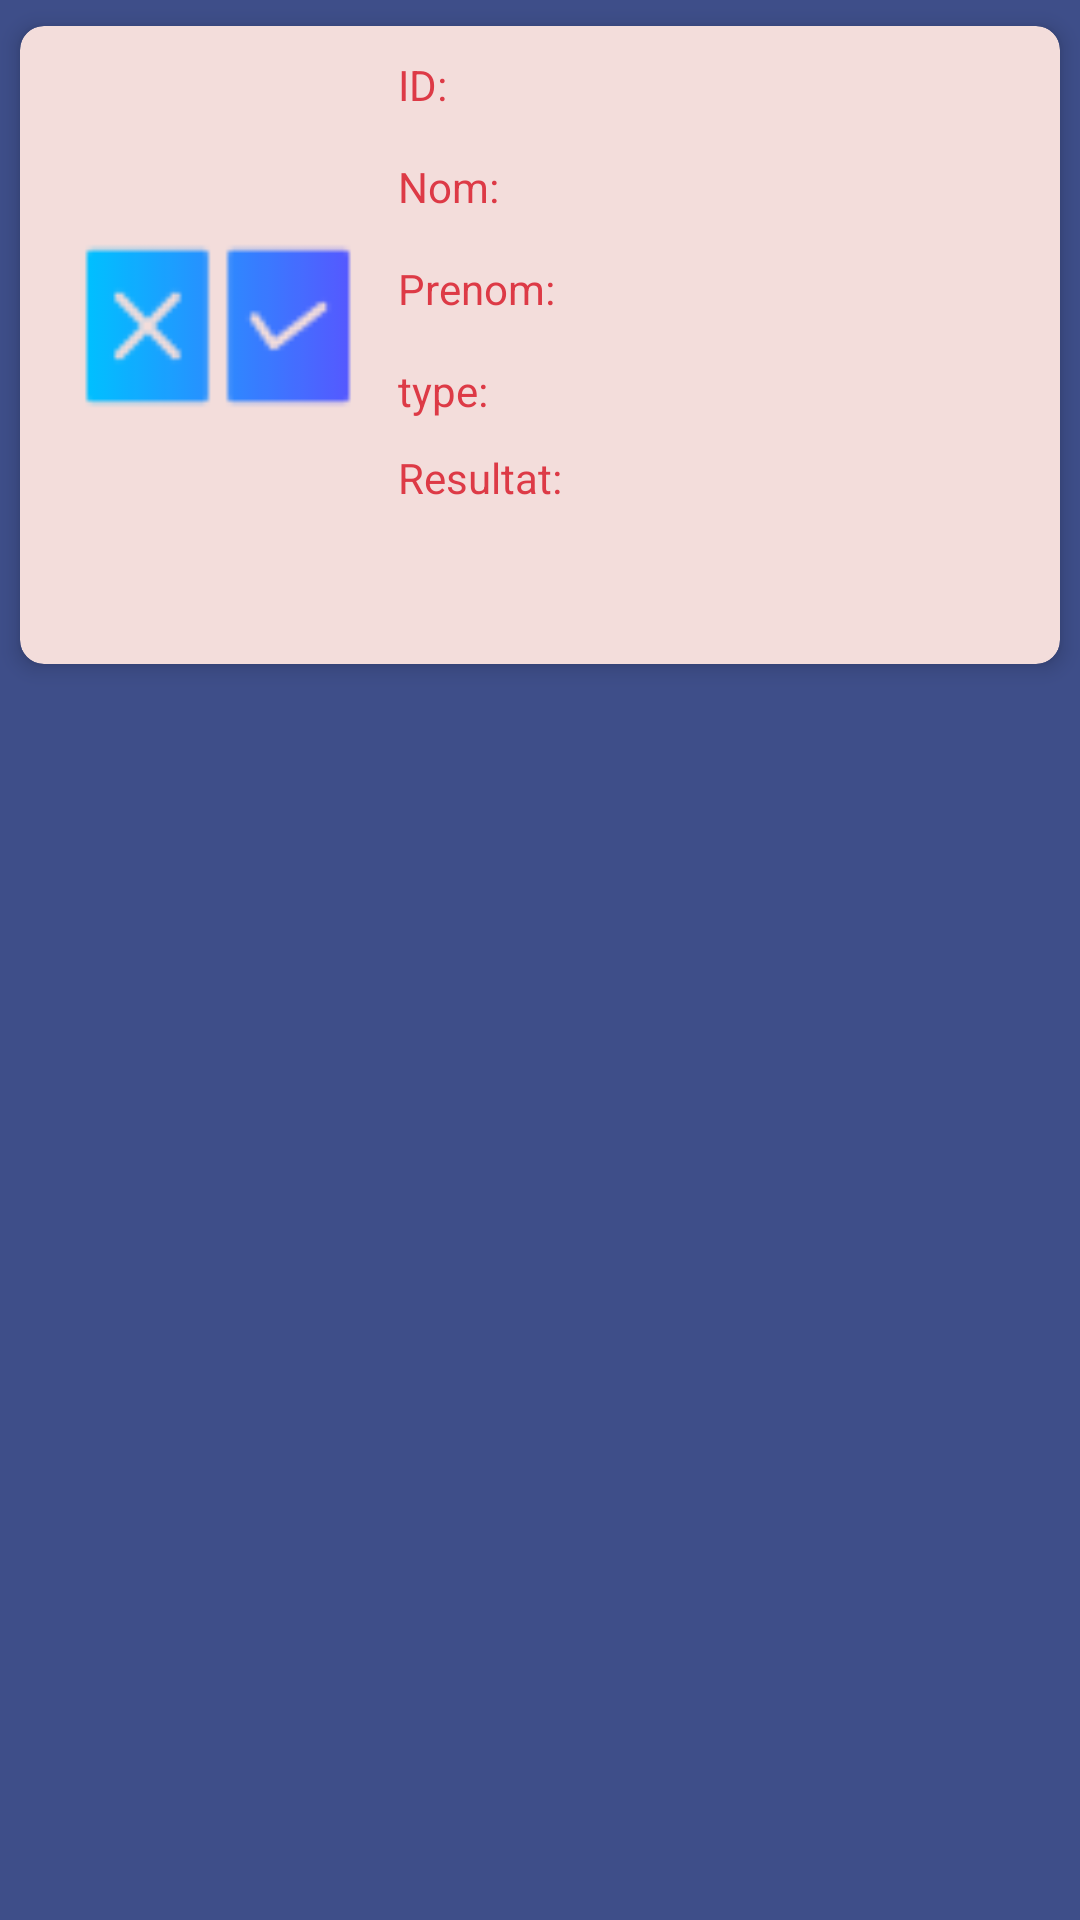

Point at icon controls on the screen. Image size 1080w x 1920h, points as (x=x, y=y).
ouiounon: (x=218, y=326)
